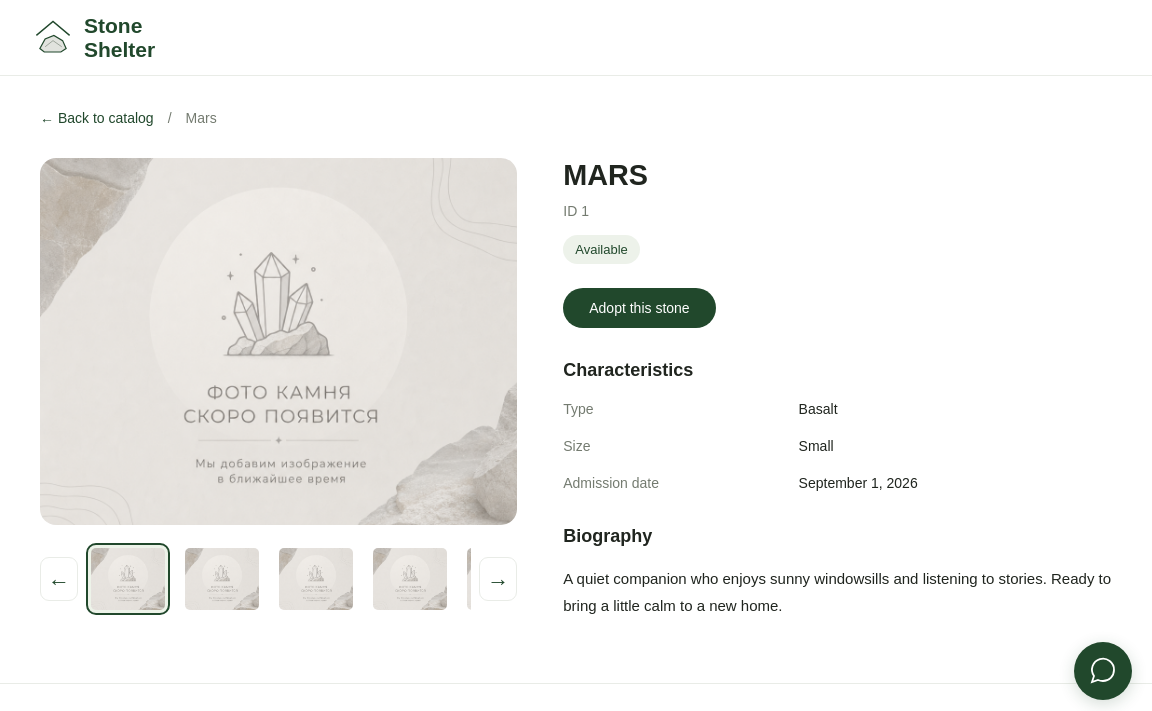
Scenario: rechecks availability at submission after another visitor reserved the stone
Click the button "Adopt this stone": (640, 308) [563,288,716,328]
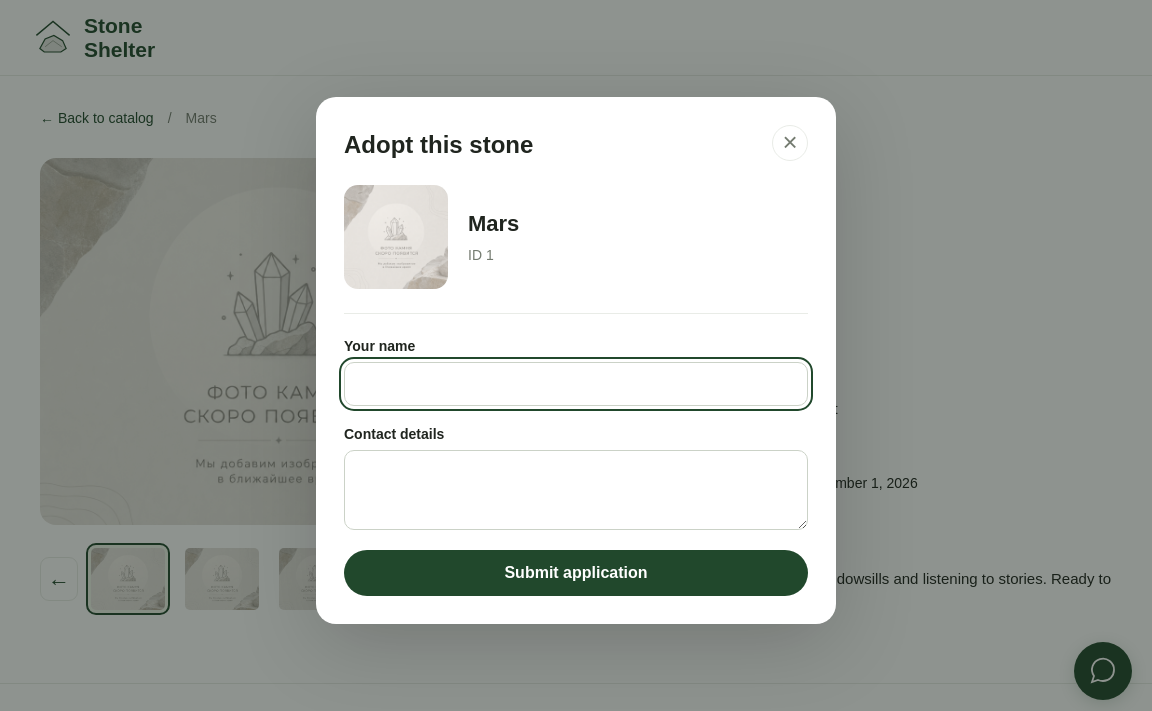
In the field labelled "Your name": (576, 384) [344,362,808,406], type "  Visitor 石  "
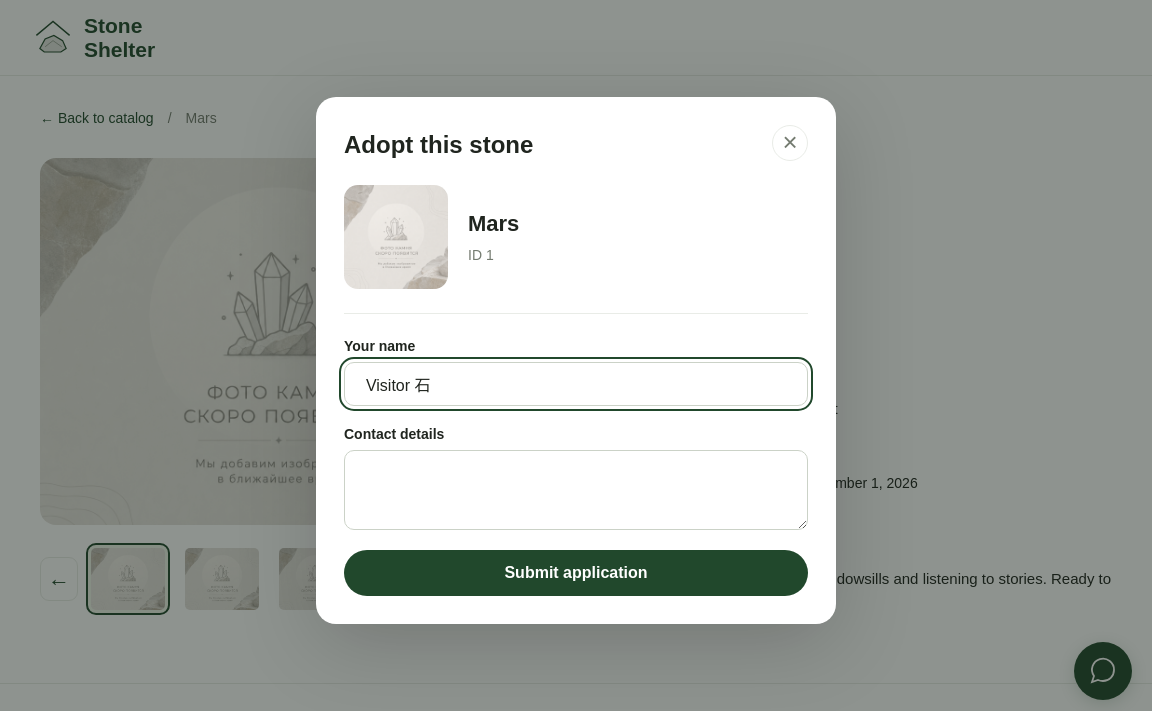
In the text box labelled "Contact details": (576, 490) [344,450,808,530], type "Find me by the window"
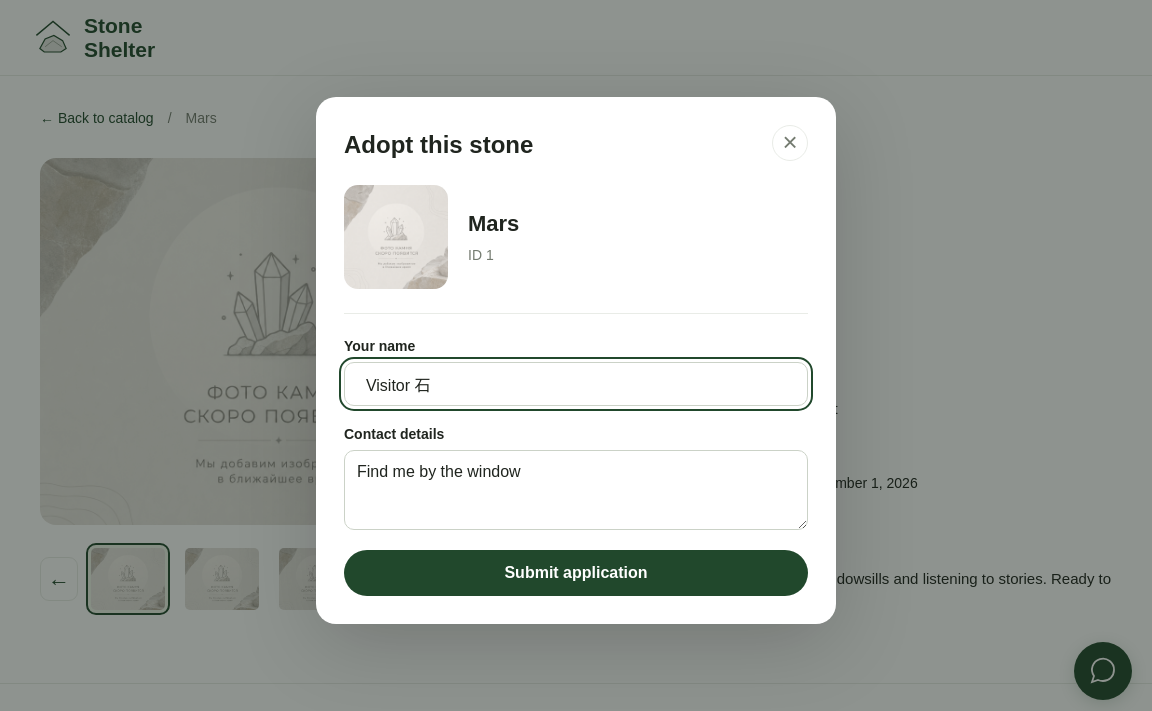
Click the button "Submit application": (576, 572) [344,550,808,596]
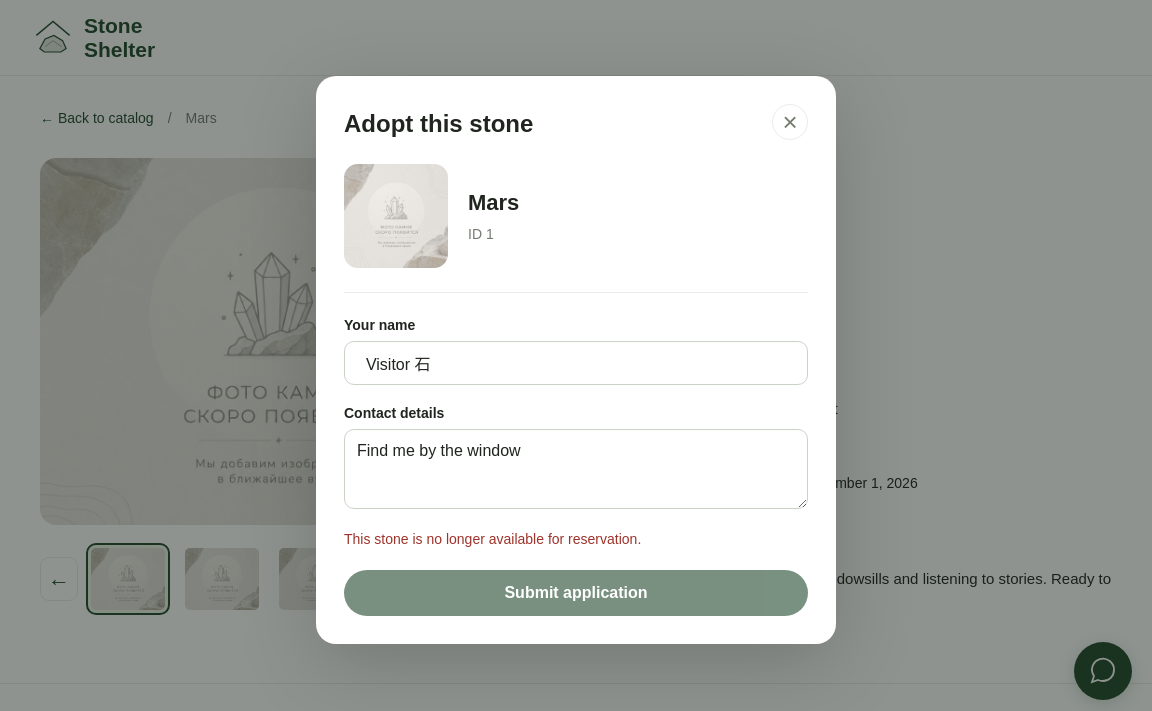
Check: the message shows "no longer available", box [344,531,641,547]
